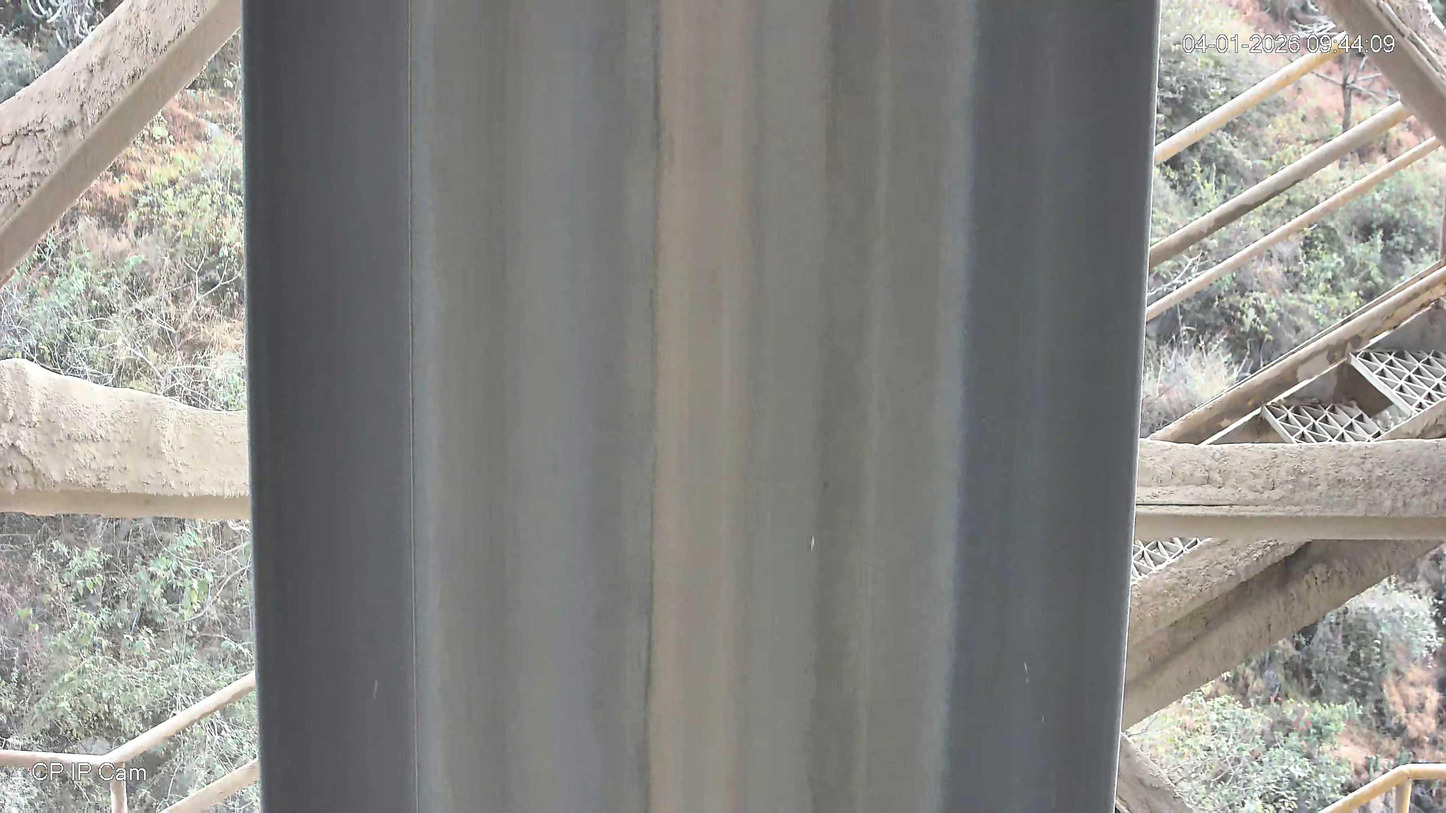belt_roi: (241, 0, 1161, 813)
